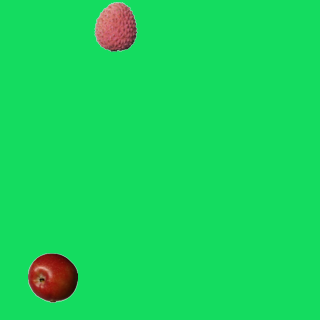Apple Braeburn: (27, 252, 77, 302)
Lychee: (90, 1, 140, 51)
